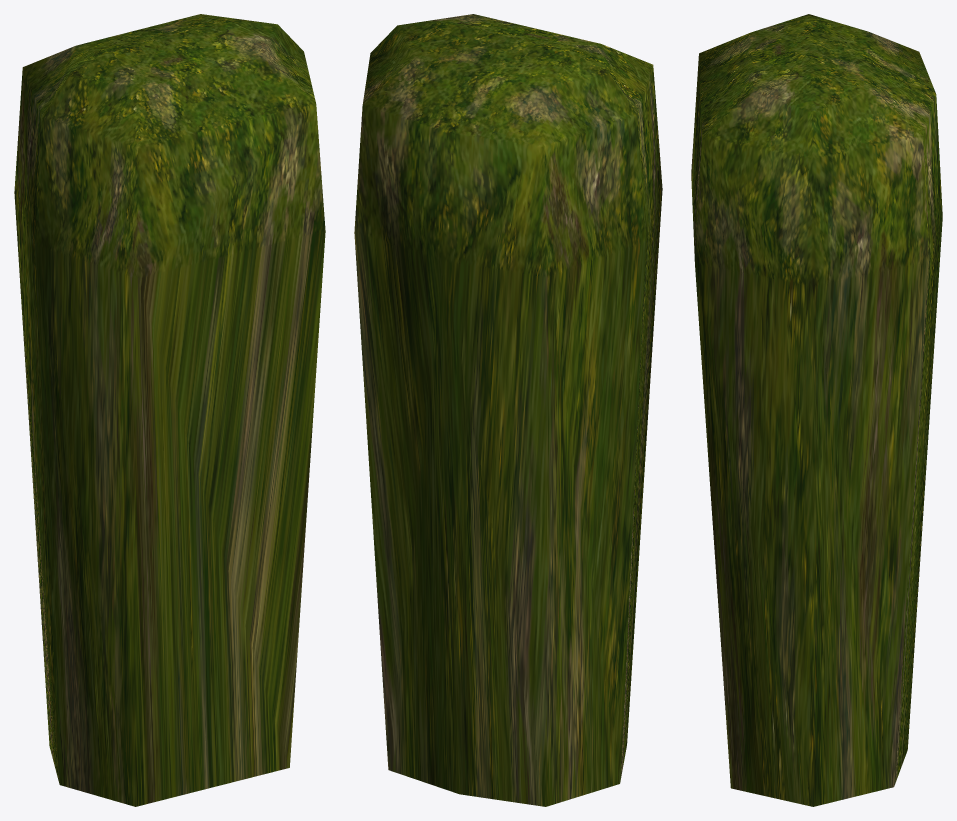
The model's file is OVERHILL_A_01_BOX06.fbx.
The picture shows the model from 3 angles, left to right: view 1: azimuth 30°, elevation 25°; view 2: azimuth 150°, elevation 25°; view 3: azimuth 270°, elevation 25°; orthographic projection. The views are drawn at different scales.
Visible parts, largest first — view 1: OVERHILL_A_01_BOX06; view 2: OVERHILL_A_01_BOX06; view 3: OVERHILL_A_01_BOX06.
Part boxes in pixels (bbox=[...]): OVERHILL_A_01_BOX06: bbox=[14, 14, 325, 806]; OVERHILL_A_01_BOX06: bbox=[354, 14, 662, 806]; OVERHILL_A_01_BOX06: bbox=[691, 14, 942, 806].
Size of the model in its own units: 16367 by 40241 by 13075.
1 material, 1 textured.
